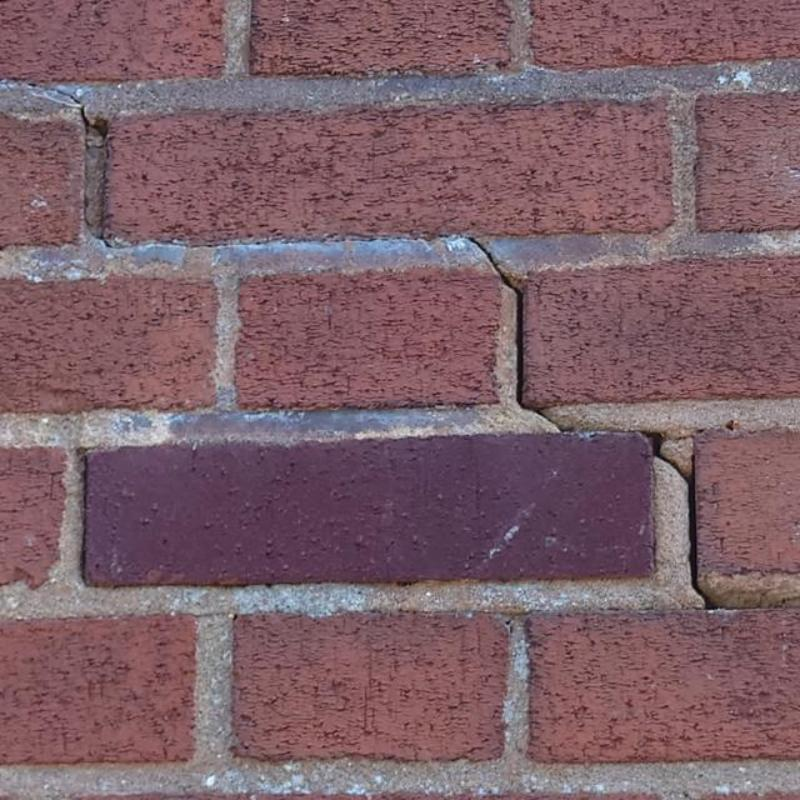crack: (607, 430, 766, 610), (466, 236, 574, 433), (26, 82, 106, 149), (94, 231, 111, 249)
